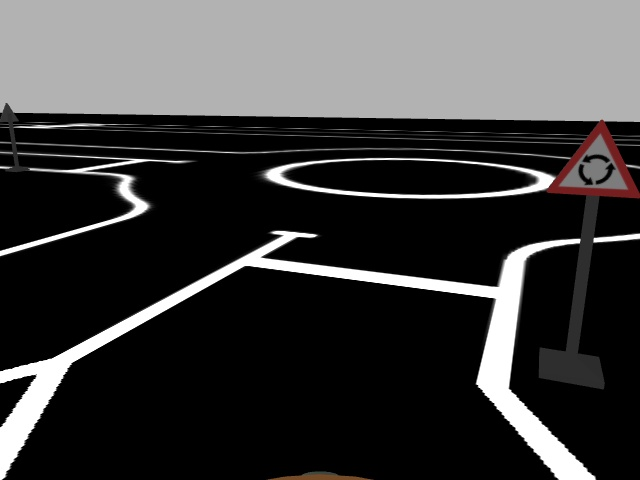roundabout: (545, 120, 640, 197)
